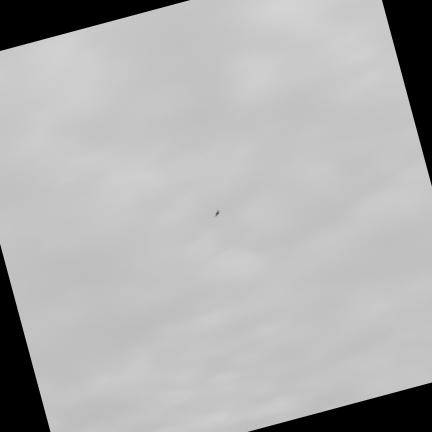Shahed: (215, 210, 219, 215)
